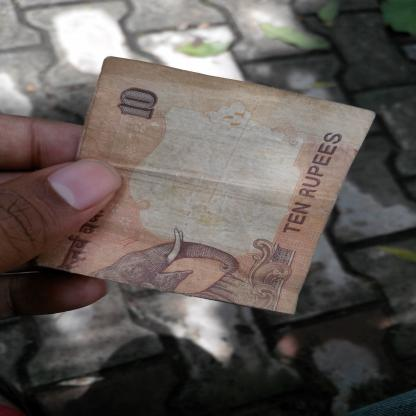Old10Back: (36, 55, 379, 316)
